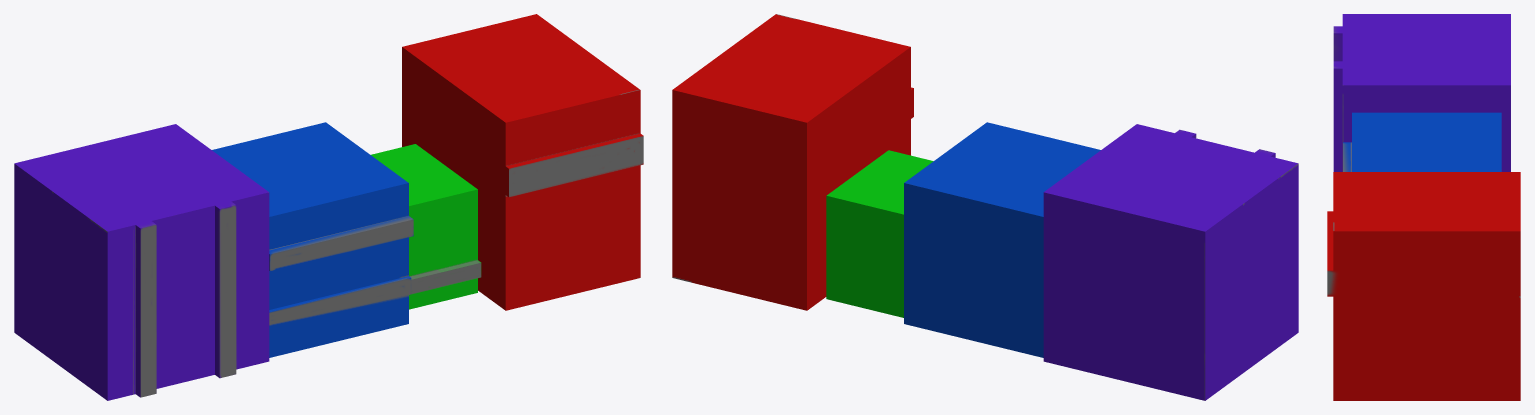
Rendered from Shelf Stuffers 2.glb.
3 renders of one model, left to right at view 1: azimuth 30°, elevation 25°; view 2: azimuth 150°, elevation 25°; view 3: azimuth 270°, elevation 25°, orthographic. The views are drawn at different scales.
Visible parts, largest first — view 1: Cube.003; view 2: Cube.003; view 3: Cube.003.
Boxes of the visible parts, x1,y1,x2,y2 form: Cube.003: (14, 14, 643, 400); Cube.003: (672, 14, 1298, 400); Cube.003: (1327, 14, 1520, 400).
Size of the model in its own units: 5.87 by 2 by 2.06.
4 materials, 4 textured.
